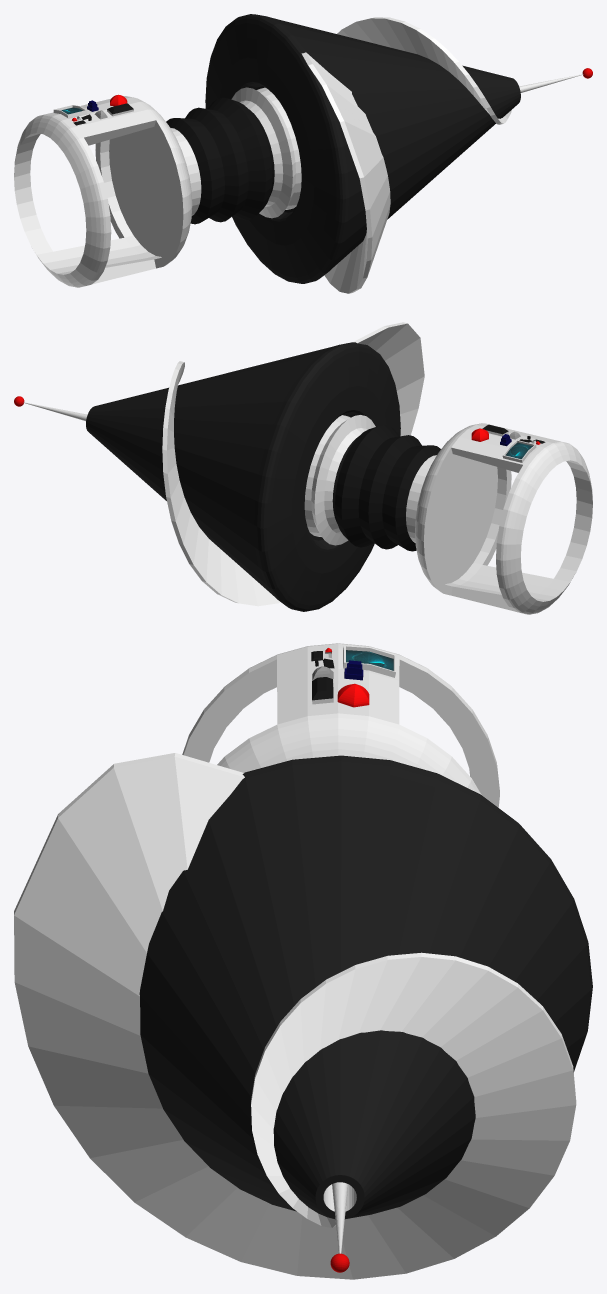
File: blaster 2.2.fbx
The picture shows the model from 3 angles, top to bottom: view 1: azimuth 30°, elevation 25°; view 2: azimuth 150°, elevation 25°; view 3: azimuth 270°, elevation 25°; orthographic projection. The views are drawn at different scales.
Parts seen in each view (by area): view 1: Bohrkopf, Griff; view 2: Bohrkopf, Griff; view 3: Bohrkopf, Griff.
Part boxes in pixels (left/top/right/bottom): Bohrkopf: left=205, top=14, right=592, bottom=293; Griff: left=14, top=87, right=301, bottom=287; Bohrkopf: left=14, top=322, right=424, bottom=611; Griff: left=304, top=415, right=592, bottom=614; Bohrkopf: left=14, top=753, right=592, bottom=1279; Griff: left=182, top=643, right=499, bottom=807.
Bounding box in the file's own units: 3.92 × 1.81 × 1.98.
